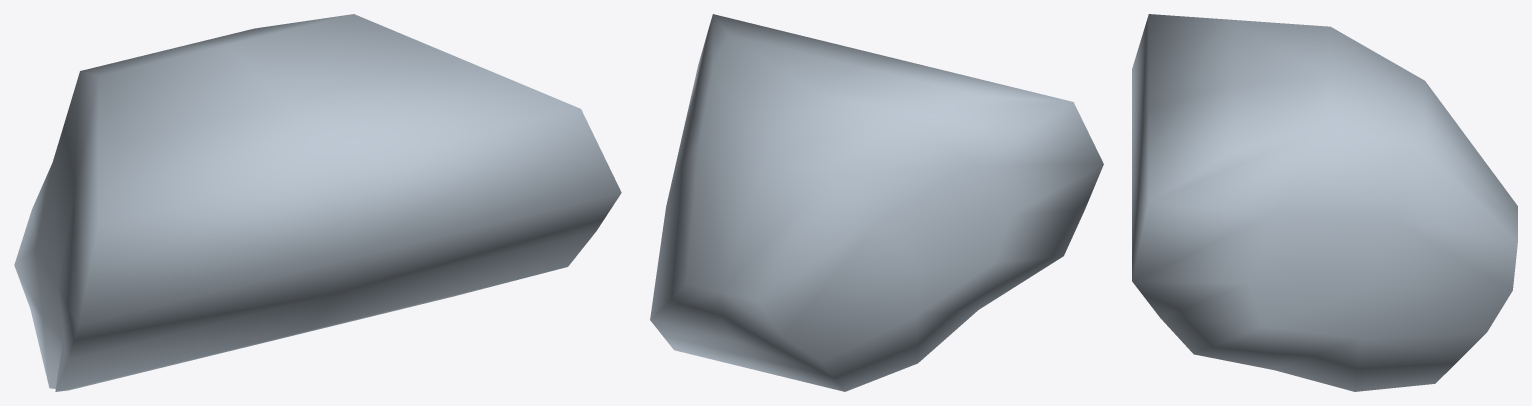
Rendered from pubic-symphysis.glb.
The picture shows the model from 3 angles, left to right: view 1: azimuth 30°, elevation 25°; view 2: azimuth 150°, elevation 25°; view 3: azimuth 270°, elevation 25°; orthographic projection. The views are drawn at different scales.
Visible parts, largest first — view 1: Pubic symphysis; view 2: Pubic symphysis; view 3: Pubic symphysis.
Boxes of the visible parts, x1,y1,x2,y2 form: Pubic symphysis: (14, 14, 621, 391); Pubic symphysis: (650, 14, 1103, 391); Pubic symphysis: (1132, 14, 1517, 391).
Size of the model in its own units: 0.0349 by 0.0201 by 0.0268.
